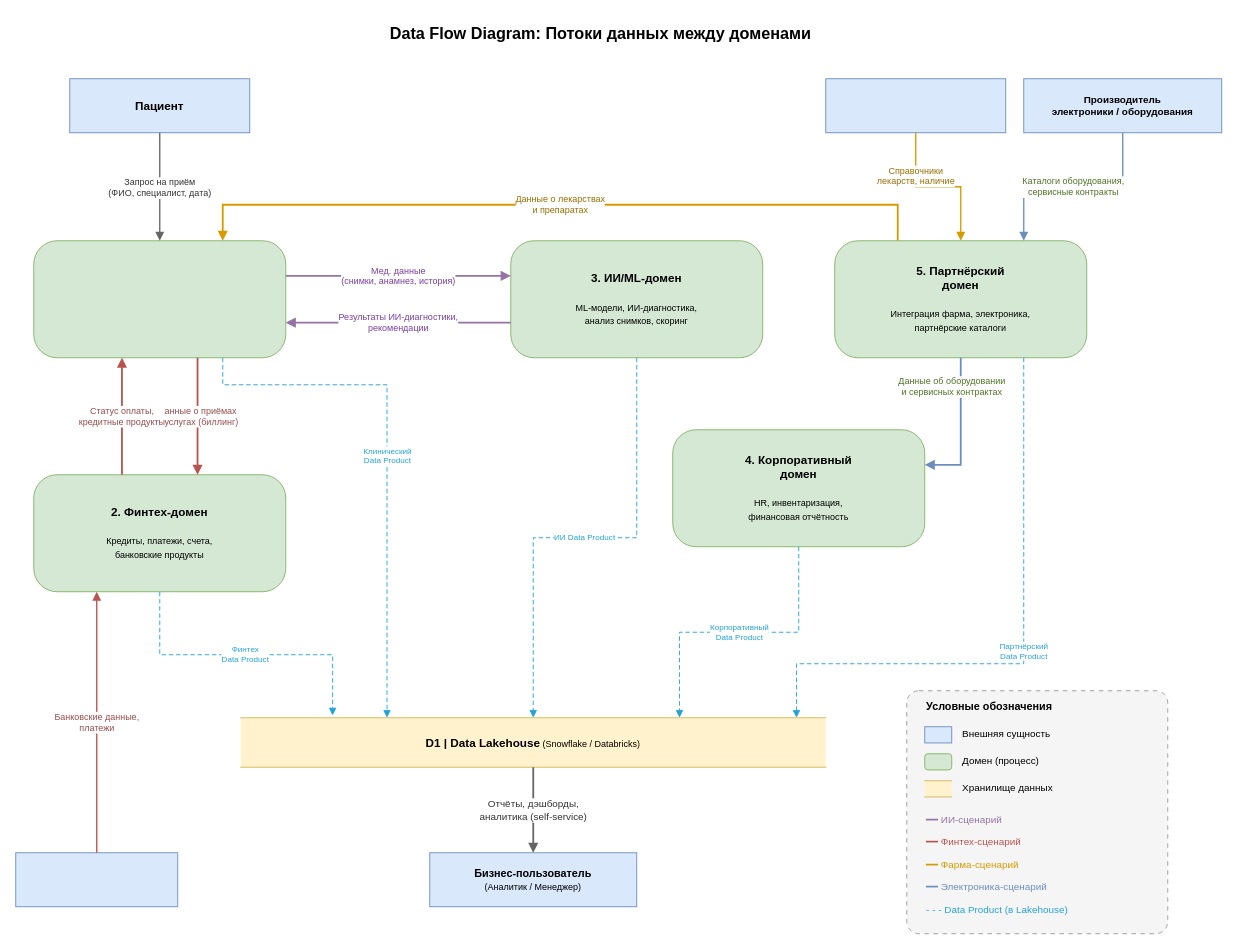
Some shapes in this 1238 by 950 pixel diagram are drawn without their labels. Here are the shapes that lost their labels. From the top down, the box of each, then its label:
(825, 78, 1006, 133): Фармацевтическая компания
(33, 240, 286, 358): 1. Медицинский домен Пациенты, приёмы, назначения, медицинские карты
(15, 852, 178, 907): Внешний финтех-партнёр
